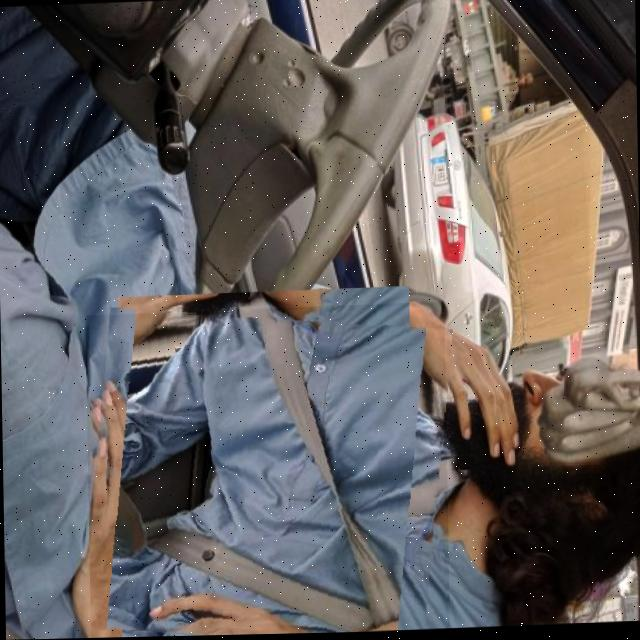seatbelt: (84, 302, 449, 639)
